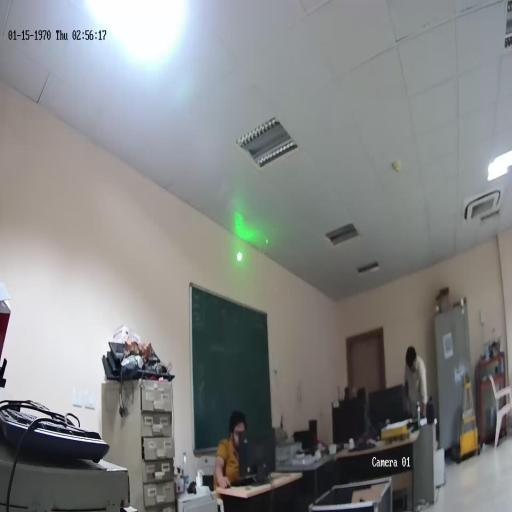laser: (234, 249, 244, 264)
